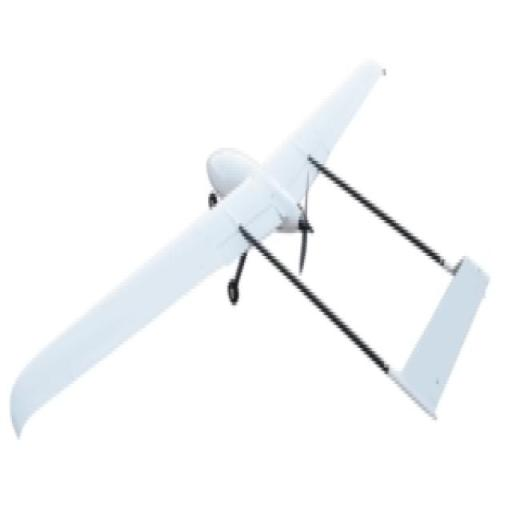uav: (9, 46, 485, 436)
